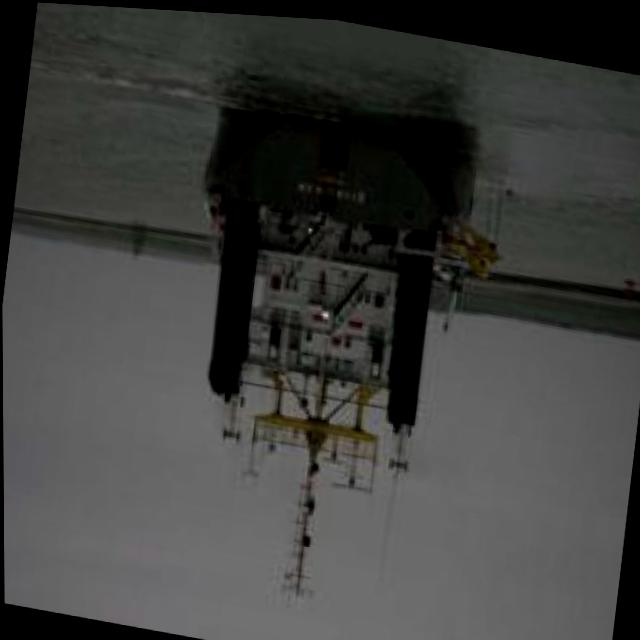ship2: (203, 113, 454, 584)
